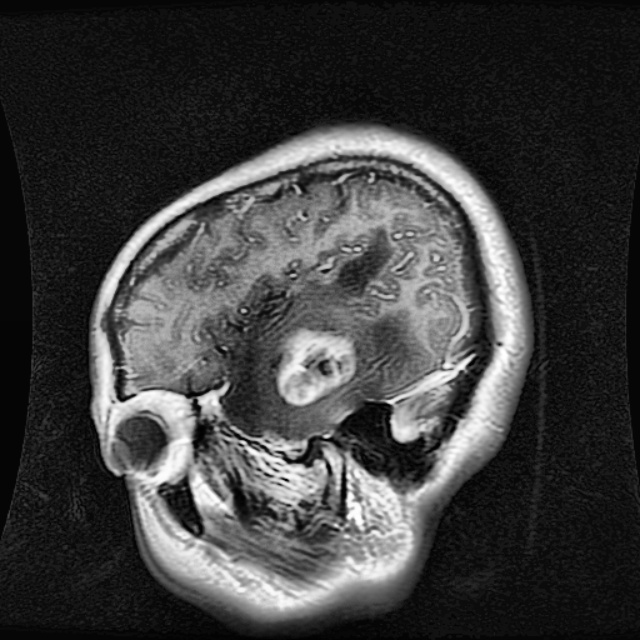Meningioma: (278, 327, 357, 403)
